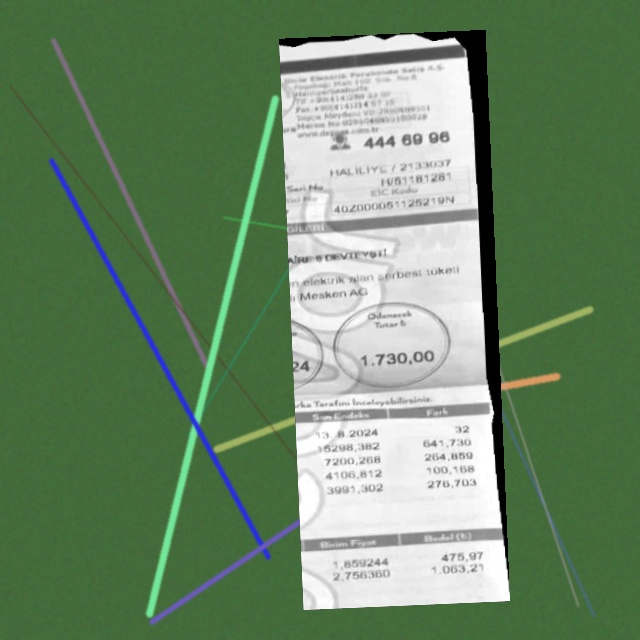electricity-bill: (278, 30, 510, 610)
